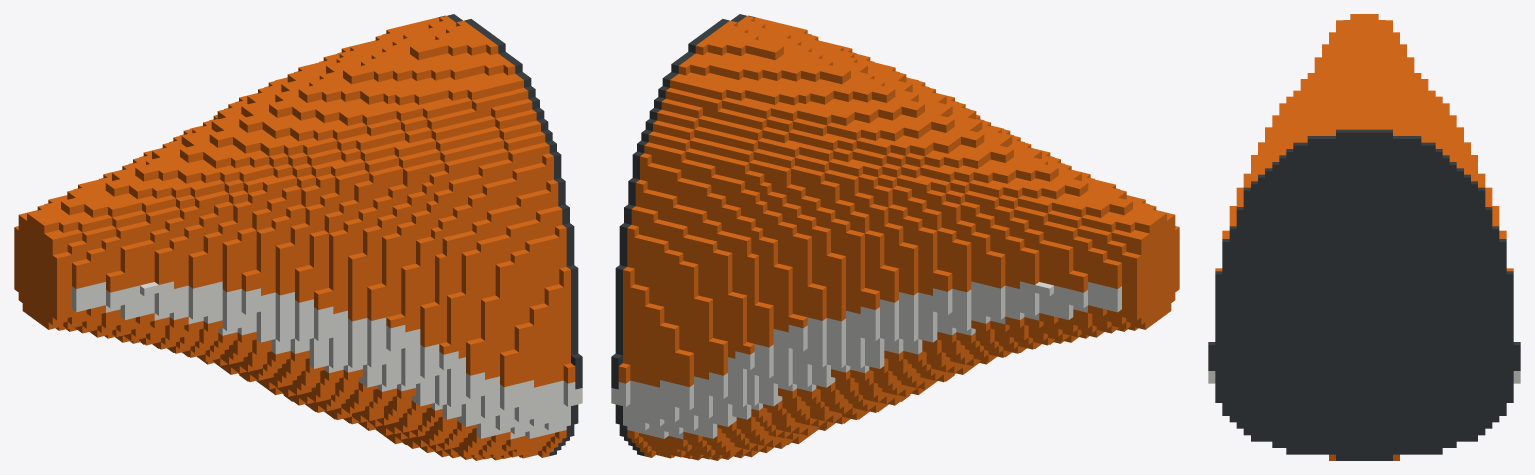
Rendered from news_helicopter_rear_fairing.glb.
The picture shows the model from 3 angles, left to right: view 1: azimuth 30°, elevation 25°; view 2: azimuth 150°, elevation 25°; view 3: azimuth 270°, elevation 25°; orthographic projection. The views are drawn at different scales.
Visible parts, largest first — view 1: body:compound; view 2: body:compound; view 3: body:compound.
Boxes of the visible parts, x1,y1,x2,y2 form: body:compound: (14,14,582,460); body:compound: (611,14,1179,460); body:compound: (1208,14,1520,460).
Bounding box in the file's own units: 1.91 × 1.59 × 1.38.
